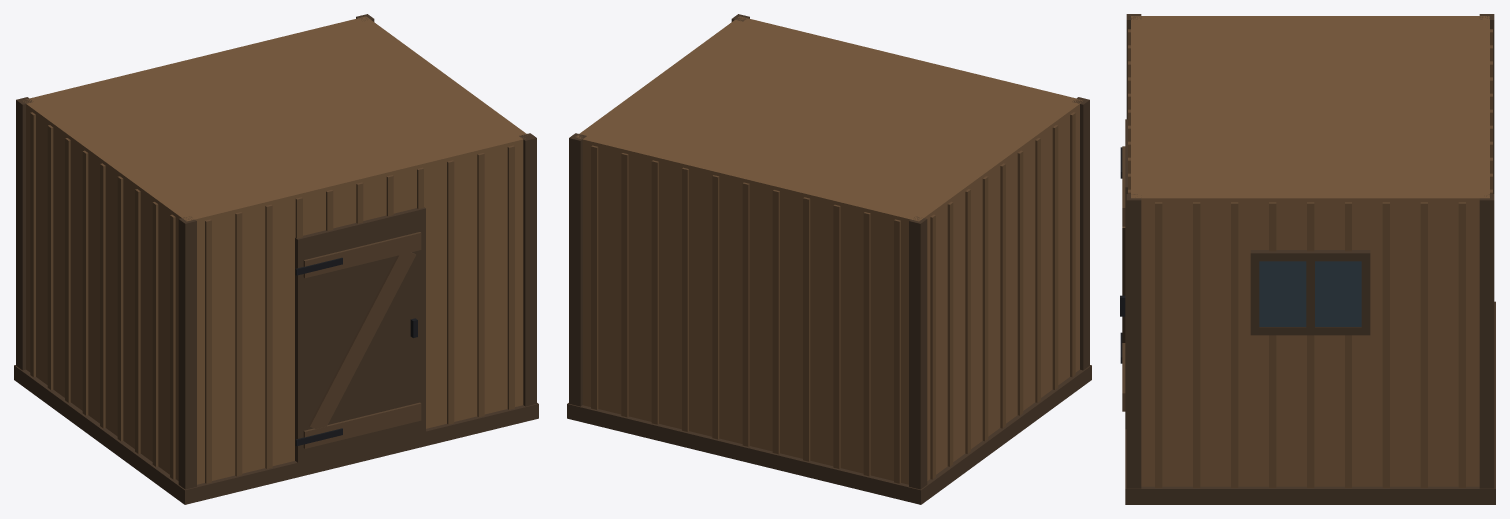
File: abri_jardin.glb
3 views of the same model, side by side, from view 1: azimuth 30°, elevation 25°; view 2: azimuth 150°, elevation 25°; view 3: azimuth 270°, elevation 25° (orthographic). The views are drawn at different scales.
Parts seen in each view (by area): view 1: walls, door, battens_s, battens_f, corners, sill, ledges, brace, hinges; view 2: walls, battens_f, battens_s, corners, sill; view 3: walls, battens_s, corners, sill, window, window_frame, window_bars, battens_f, door, ledges.
Boxes of the visible parts, x1,y1,x2,y2 form: walls: (23,16,527,484); door: (295,207,425,469); battens_s: (30,112,175,479); battens_f: (205,145,514,483); corners: (16,14,536,489); sill: (14,365,538,504); ledges: (303,232,421,448); brace: (309,252,415,428); hinges: (295,257,342,446); walls: (575,16,1082,484); battens_f: (591,145,900,483); battens_s: (930,112,1075,479); corners: (569,14,1089,489); sill: (567,365,1091,504); walls: (1131,16,1489,486); battens_s: (1155,202,1465,487); corners: (1126,14,1494,488); sill: (1125,301,1495,504); window: (1259,261,1361,326); window_frame: (1250,250,1370,335); window_bars: (1250,250,1369,335); battens_f: (1128,29,1492,193); door: (1125,119,1127,429); ledges: (1122,146,1125,411).
Size of the model in its own units: 3.05 by 2.3 by 2.57.
6 materials, 6 textured.
